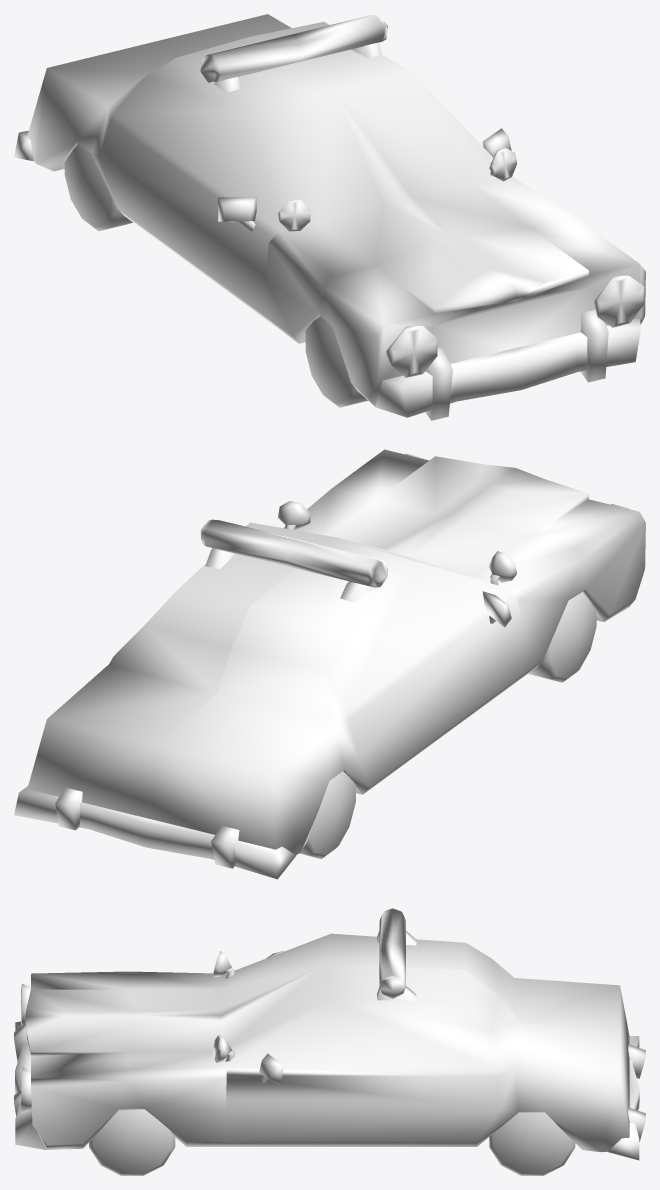
Rendered from policeCruiser01.glb.
3 renders of one model, top to bottom at view 1: azimuth 30°, elevation 25°; view 2: azimuth 150°, elevation 25°; view 3: azimuth 270°, elevation 25°, orthographic. The views are drawn at different scales.
Visible parts, largest first — view 1: police_Cruiser; view 2: police_Cruiser; view 3: police_Cruiser.
Boxes of the visible parts, x1=… form: police_Cruiser: x1=14, y1=14, x2=645, y2=420; police_Cruiser: x1=14, y1=449, x2=645, y2=879; police_Cruiser: x1=14, y1=908, x2=645, y2=1175.
Size of the model in its own units: 2.18 by 1.63 by 5.01.
1 material, 1 textured.
